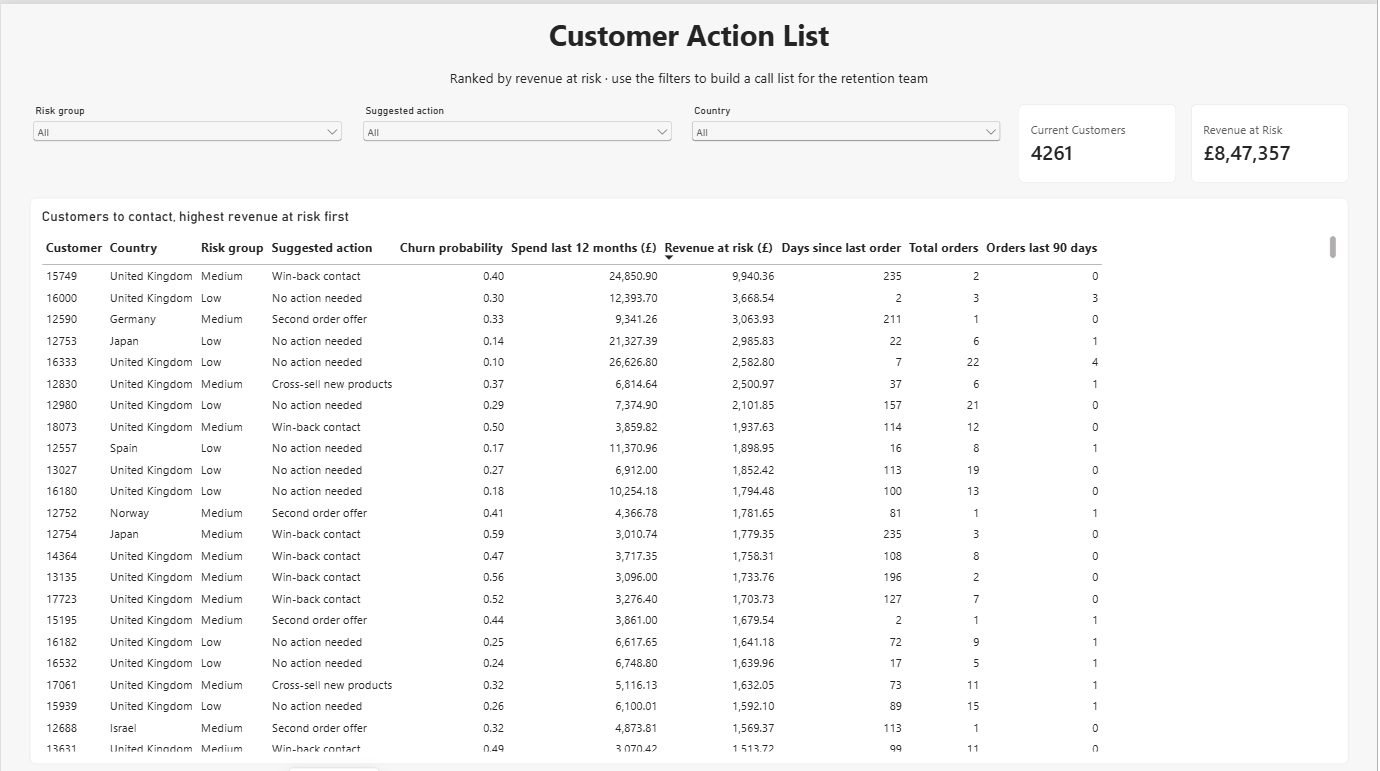

The dashboard page shown, as its layout file describes it:
{"tool":"powerbi","page":{"name":"Action List","canvas":[1920,1080],"ordinal":1},"visuals":[{"type":"textbox","box":[40,15,1840,80],"z":0},{"type":"textbox","box":[40,90,1840,40],"z":1},{"type":"slicer","fields":{"Values":["customer_risk_scores.risk_group"]},"box":[40,140,440,110],"z":2},{"type":"slicer","fields":{"Values":["customer_risk_scores.suggested_action"]},"box":[500,140,440,110],"z":3},{"type":"slicer","fields":{"Values":["customer_risk_scores.country"]},"box":[960,140,440,110],"z":4},{"type":"cardVisual","fields":{"Data":["customer_risk_scores.Current Customers"]},"box":[1420,140,220,110],"z":5},{"type":"cardVisual","fields":{"Data":["customer_risk_scores.Revenue at Risk"]},"box":[1660,140,220,110],"z":6},{"type":"tableEx","title":"Customers to contact, highest revenue at risk first","fields":{"Values":["customer_risk_scores.customer_id","customer_risk_scores.country","customer_risk_scores.risk_group","customer_risk_scores.suggested_action","customer_risk_scores.churn_probability","customer_risk_scores.spent_last_12_months","customer_risk_scores.revenue_at_risk","customer_risk_scores.days_since_last_order","customer_risk_scores.num_orders","customer_risk_scores.orders_last_90_days"]},"box":[40,270,1840,790],"z":7}]}

Visuals, with their boxes in screenshot pixels (x1, y1, x2, y2), scaled from the page's 1920x1080 canvas onto the 1380x771 screenshot:
textbox: 29, 11, 1351, 68
textbox: 29, 64, 1351, 93
slicer - customer_risk_scores.risk_group: 29, 100, 345, 178
slicer - customer_risk_scores.suggested_action: 359, 100, 676, 178
slicer - customer_risk_scores.country: 690, 100, 1006, 178
cardVisual - customer_risk_scores.Current Customers: 1021, 100, 1179, 178
cardVisual - customer_risk_scores.Revenue at Risk: 1193, 100, 1351, 178
"Customers to contact, highest revenue at risk first" tableEx: 29, 193, 1351, 757
